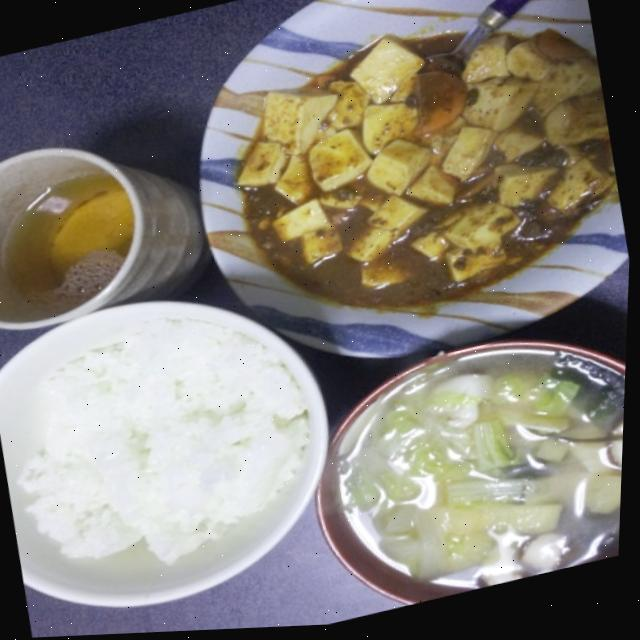汤锅炖物: (287, 307, 630, 628)
米饭主食: (0, 263, 360, 637)
豆腐料理: (162, 0, 640, 383)
